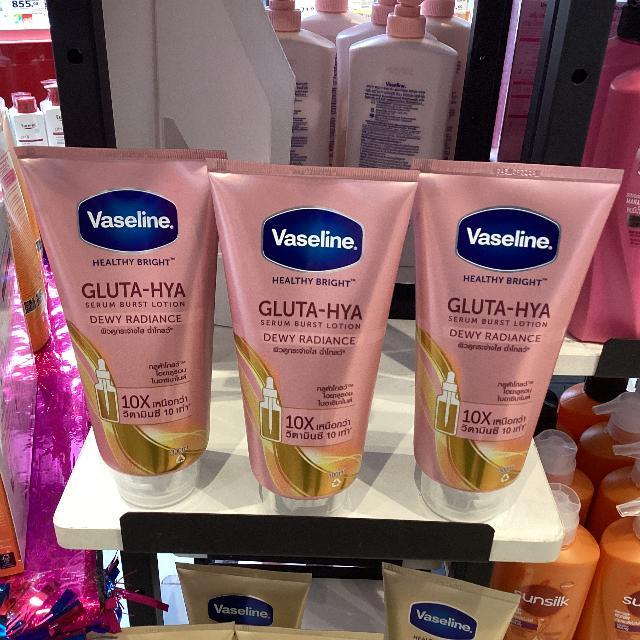Squeeze Tube: (3, 118, 618, 538)
